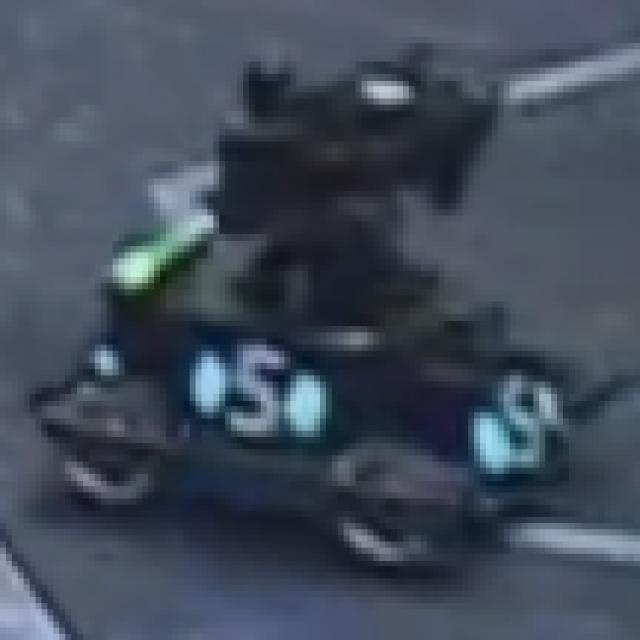B5: (462, 363, 576, 486), (196, 332, 320, 431)
